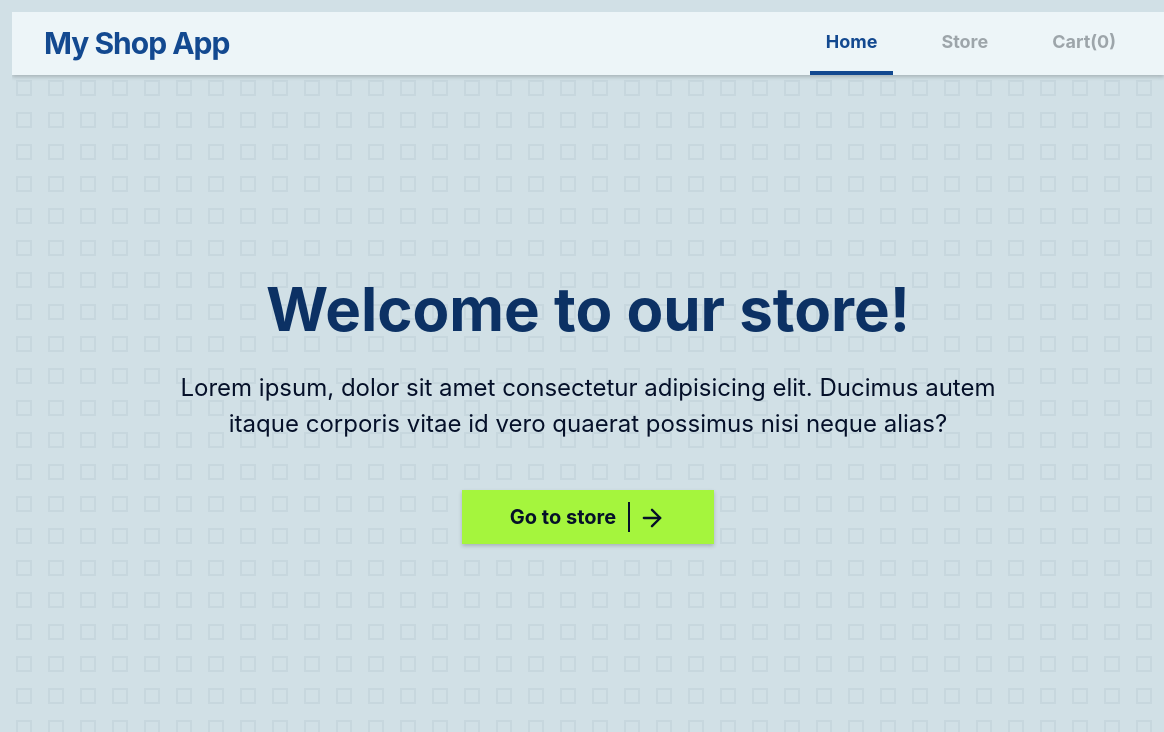
Test: Home component › routes to store page when Home Store link is clicked
Step 1. Click the link "Go to store" → (588, 516), box [462,490,714,544]
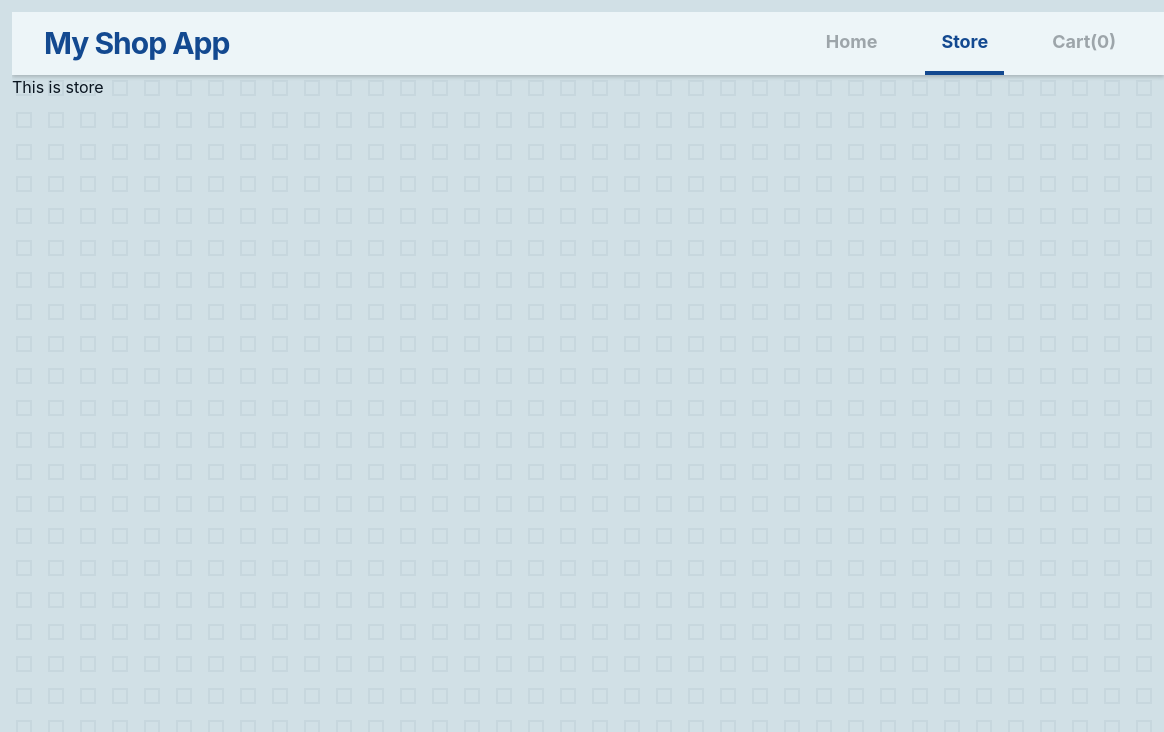
Expected: the text "This is store" is shown, [12,77,104,97]
